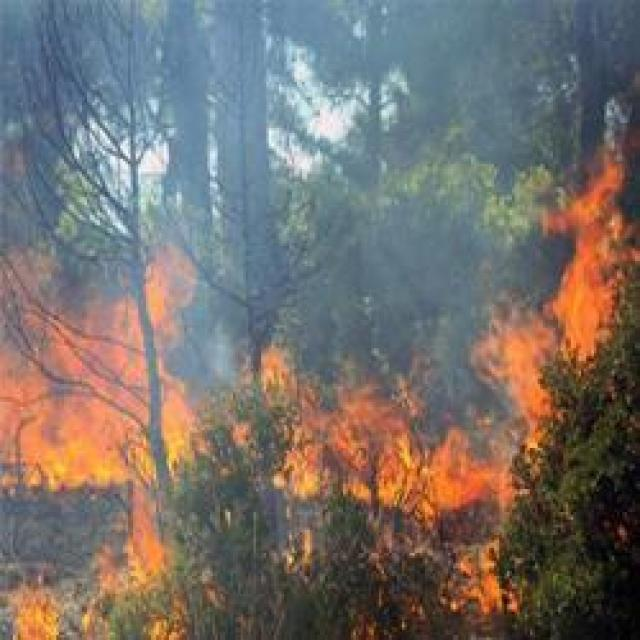fire: (272, 355, 510, 610), (2, 269, 206, 483), (519, 107, 637, 404), (89, 482, 174, 602), (6, 583, 73, 640)
